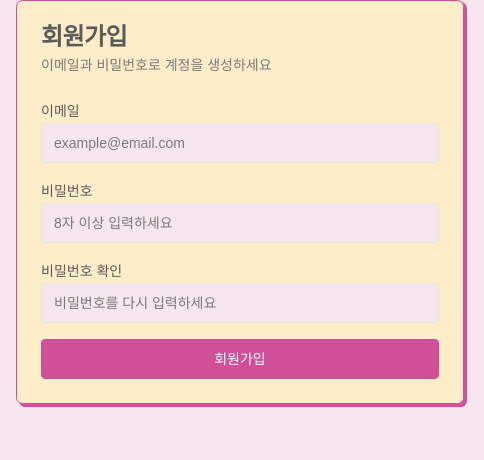
SignupForm › 8자 미만의 비밀번호에 대해 에러 메시지를 표시한다
This screenshot has width=484, height=460.
Type "test@example.com" into the field labelled "이메일" at (240, 143), box [41,123,439,163]
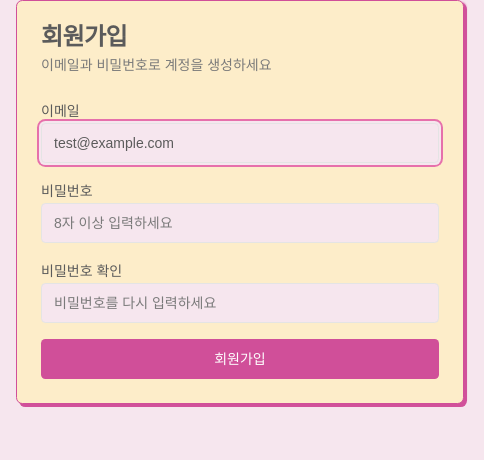
Type "1234567" into the password field labelled "비밀번호" at (240, 223), box [41,203,439,243]
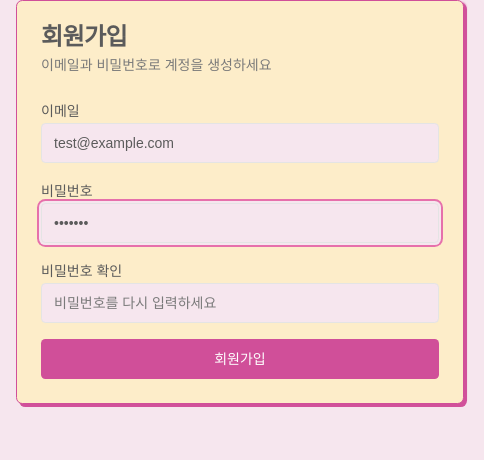
Type "1234567" into the password field labelled "비밀번호 확인" at (240, 303), box [41,283,439,323]
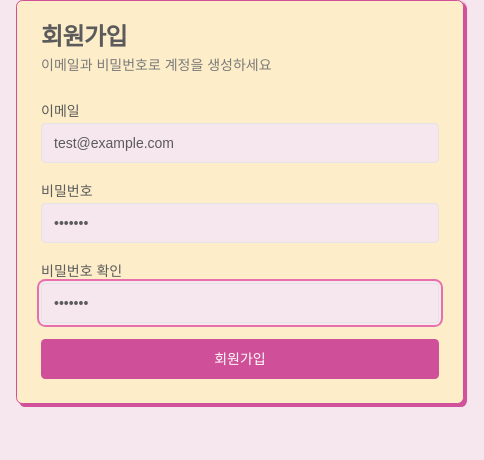
Click the button "회원가입" at (240, 359), box [41,339,439,379]
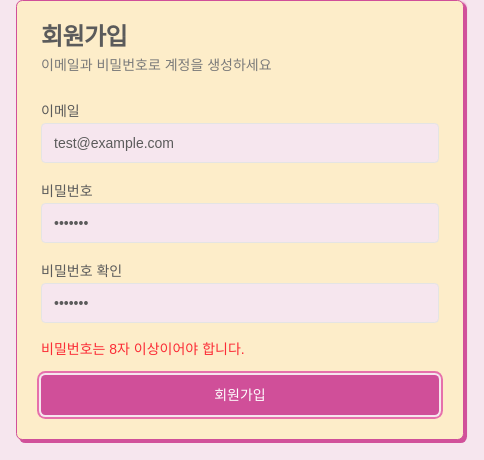
Check: the text "비밀번호는 8자 이상이어야 합니다." is shown, box [41,341,245,357]
